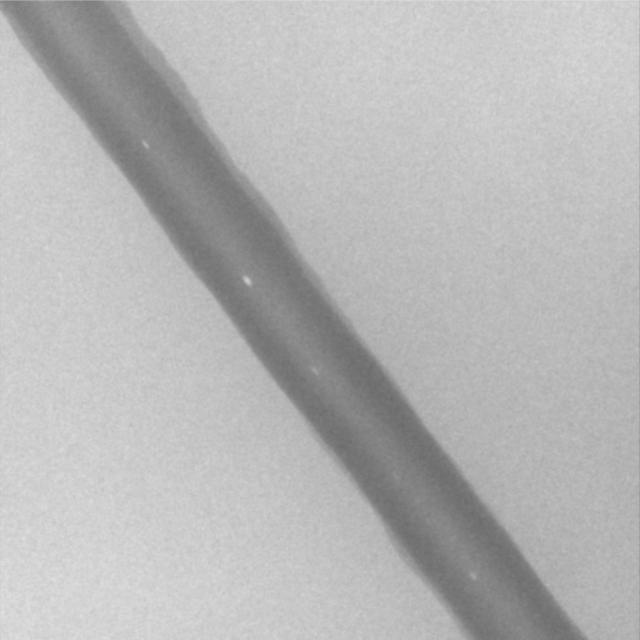air hole: (139, 137, 150, 151), (241, 275, 252, 288), (310, 365, 320, 376), (469, 570, 478, 581)
